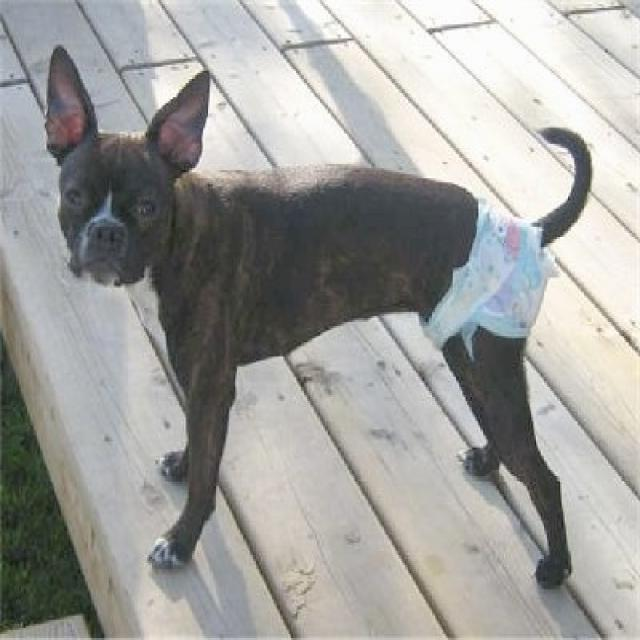dog: (17, 26, 251, 320)
